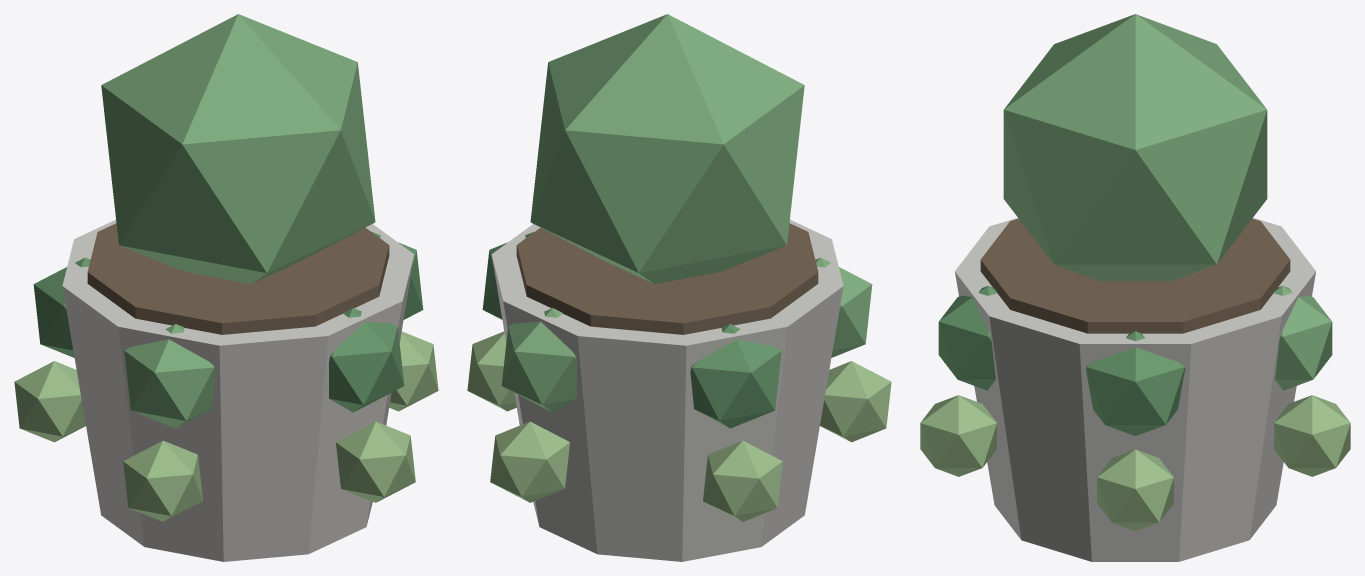
The model's file is pla_jiboia_sala.glb.
The picture shows the model from 3 angles, left to right: view 1: azimuth 30°, elevation 25°; view 2: azimuth 150°, elevation 25°; view 3: azimuth 270°, elevation 25°; orthographic projection.
Visible parts, largest first — view 1: PLA_JIBOIA_SALA_v01; view 2: PLA_JIBOIA_SALA_v01; view 3: PLA_JIBOIA_SALA_v01.
Part boxes in pixels (bbox=[...]): PLA_JIBOIA_SALA_v01: bbox=[14, 14, 438, 561]; PLA_JIBOIA_SALA_v01: bbox=[467, 14, 891, 561]; PLA_JIBOIA_SALA_v01: bbox=[920, 14, 1350, 561].
Bounding box in the file's own units: 0.3231 × 0.42 × 0.3334.
